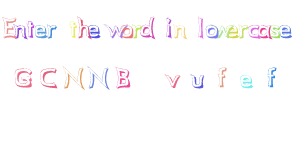B: (114, 65, 132, 90)
C: (38, 65, 58, 88)
E: (1, 14, 17, 38)
G: (13, 66, 33, 87)
N: (87, 65, 111, 90), (61, 65, 84, 89)
a: (258, 22, 272, 40)
c: (248, 22, 259, 39)
d: (140, 15, 156, 40)
e: (239, 72, 255, 89), (279, 21, 292, 39), (87, 23, 100, 40), (226, 23, 238, 40), (34, 23, 46, 39)
f: (216, 65, 228, 88), (266, 66, 278, 89)
h: (77, 14, 89, 40)
i: (164, 15, 173, 40)
l: (194, 12, 206, 39)
n: (173, 23, 188, 40), (13, 24, 27, 40)
o: (119, 24, 134, 39), (204, 23, 218, 39)
r: (131, 23, 142, 39), (237, 23, 248, 39), (47, 24, 57, 39)
s: (269, 22, 281, 39)
t: (25, 19, 36, 37), (68, 19, 77, 39)
u: (189, 73, 204, 89)
v: (164, 73, 181, 88)
w: (103, 22, 123, 40), (214, 24, 230, 39)
